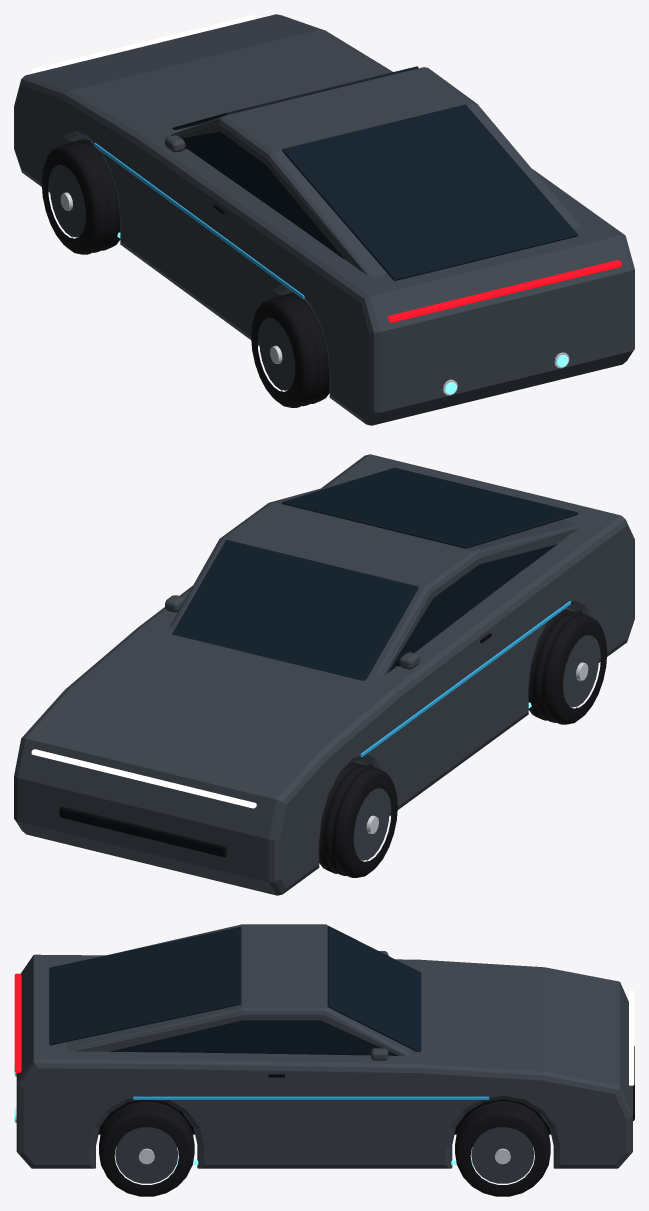
The model's file is volt-arrow.glb.
3 views of the same model, one above another, from view 1: azimuth 30°, elevation 25°; view 2: azimuth 150°, elevation 25°; view 3: azimuth 270°, elevation 25° (orthographic). The views are drawn at different scales.
Parts seen in each view (by area): view 1: Body, RearWindow, Cabin, Tire (×2), SideGlass, AeroCover (×2), TailLight, LightBar, AccentLine, Windscreen; view 2: Body, Windscreen, Cabin, RearWindow, Tire (×2), SideGlass, AeroCover (×2), LowerIntake, LightBar, AccentLine; view 3: Body, RearWindow, Cabin, Tire (×2), Windscreen, SideGlass, AeroCover (×2), AccentLine, TailLight, LightBar.
Part boxes in pixels (x1=…): Body: x1=14, y1=14, x2=634, y2=425; RearWindow: x1=282, y1=104, x2=577, y2=280; Cabin: x1=171, y1=67, x2=579, y2=276; Tire (×2): x1=41, y1=140, x2=329, y2=407; SideGlass: x1=182, y1=131, x2=344, y2=259; AeroCover (×2): x1=50, y1=165, x2=295, y2=390; TailLight: x1=388, y1=260, x2=621, y2=322; LightBar: x1=31, y1=15, x2=256, y2=73; AccentLine: x1=94, y1=143, x2=304, y2=299; Windscreen: x1=172, y1=66, x2=418, y2=130; Body: x1=14, y1=454, x2=634, y2=895; Windscreen: x1=172, y1=540, x2=418, y2=680; Cabin: x1=170, y1=475, x2=579, y2=677; RearWindow: x1=282, y1=467, x2=577, y2=548; Tire (×2): x1=319, y1=610, x2=607, y2=877; SideGlass: x1=387, y1=544, x2=557, y2=673; AeroCover (×2): x1=353, y1=635, x2=598, y2=860; LowerIntake: x1=59, y1=806, x2=226, y2=857; LightBar: x1=31, y1=749, x2=256, y2=808; AccentLine: x1=360, y1=601, x2=570, y2=757; Body: x1=16, y1=954, x2=632, y2=1168; RearWindow: x1=49, y1=927, x2=241, y2=1045; Cabin: x1=66, y1=924, x2=410, y2=1055; Tire (×2): x1=99, y1=1101, x2=550, y2=1196; Windscreen: x1=327, y1=926, x2=421, y2=1051; SideGlass: x1=109, y1=1020, x2=398, y2=1055; AeroCover (×2): x1=115, y1=1127, x2=534, y2=1183; AccentLine: x1=133, y1=1096, x2=489, y2=1099; TailLight: x1=14, y1=973, x2=21, y2=1072; LightBar: x1=629, y1=990, x2=634, y2=1085.
Size of the model in its own units: 2.22 by 1.38 by 4.53.
